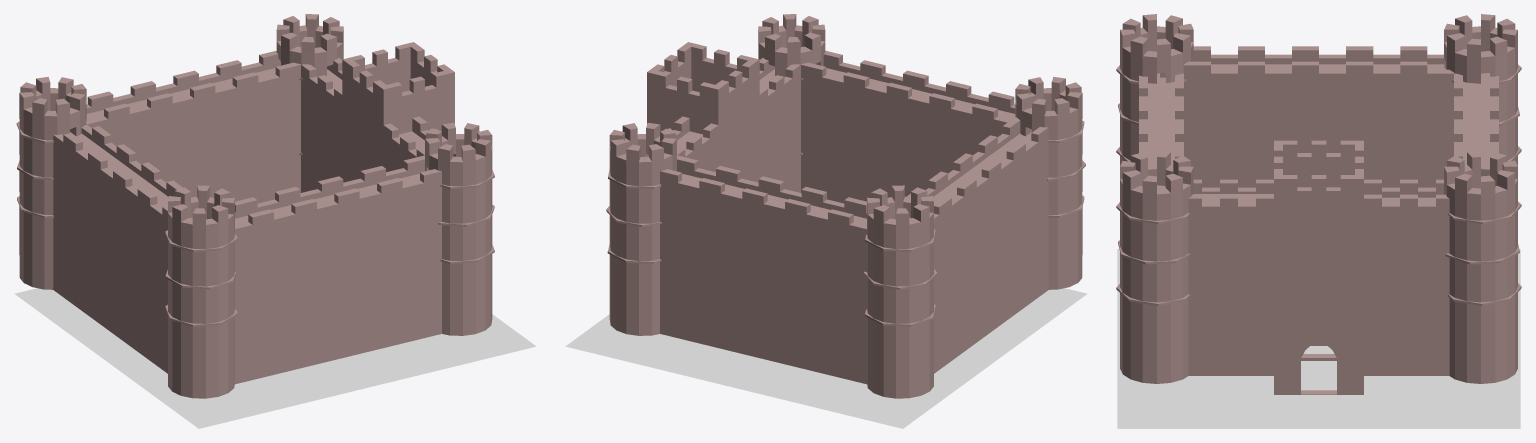
Rendered from outer_cas_new.glb.
3 views of the same model, side by side, from view 1: azimuth 30°, elevation 25°; view 2: azimuth 150°, elevation 25°; view 3: azimuth 270°, elevation 25° (orthographic). The views are drawn at different scales.
Visible parts, largest first — view 1: front_gate.002, Plane.008, Cylinder.191, Cylinder.190, Cylinder.189, Cylinder.238; view 2: front_gate.002, Plane.008, Cylinder.191, Cylinder.190, Cylinder.189, Cylinder.238; view 3: front_gate.002, Plane.008, Cylinder.191, Cylinder.238, Cylinder.190, Cylinder.189.
Boxes of the visible parts, box(x1,y1,x2,y2) form: front_gate.002: box(19, 42, 492, 398); Plane.008: box(14, 288, 536, 428); Cylinder.191: box(19, 14, 492, 248); Cylinder.190: box(19, 131, 492, 286); Cylinder.189: box(19, 171, 492, 323); Cylinder.238: box(346, 45, 450, 181); front_gate.002: box(609, 42, 1082, 398); Plane.008: box(565, 288, 1087, 428); Cylinder.191: box(609, 14, 1082, 248); Cylinder.190: box(609, 133, 1082, 286); Cylinder.189: box(609, 169, 1082, 323); Cylinder.238: box(651, 45, 755, 181); front_gate.002: box(1120, 46, 1517, 394); Plane.008: box(1117, 249, 1520, 428); Cylinder.191: box(1120, 14, 1517, 220); Cylinder.238: box(1283, 140, 1354, 394); Cylinder.190: box(1120, 74, 1517, 261); Cylinder.189: box(1120, 115, 1517, 302).
Size of the model in its own units: 97.78 by 60 by 89.99.
